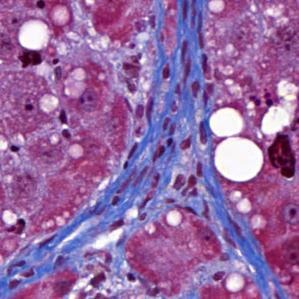inflammation: (165, 159, 209, 202), (121, 89, 158, 128), (16, 49, 48, 73)
